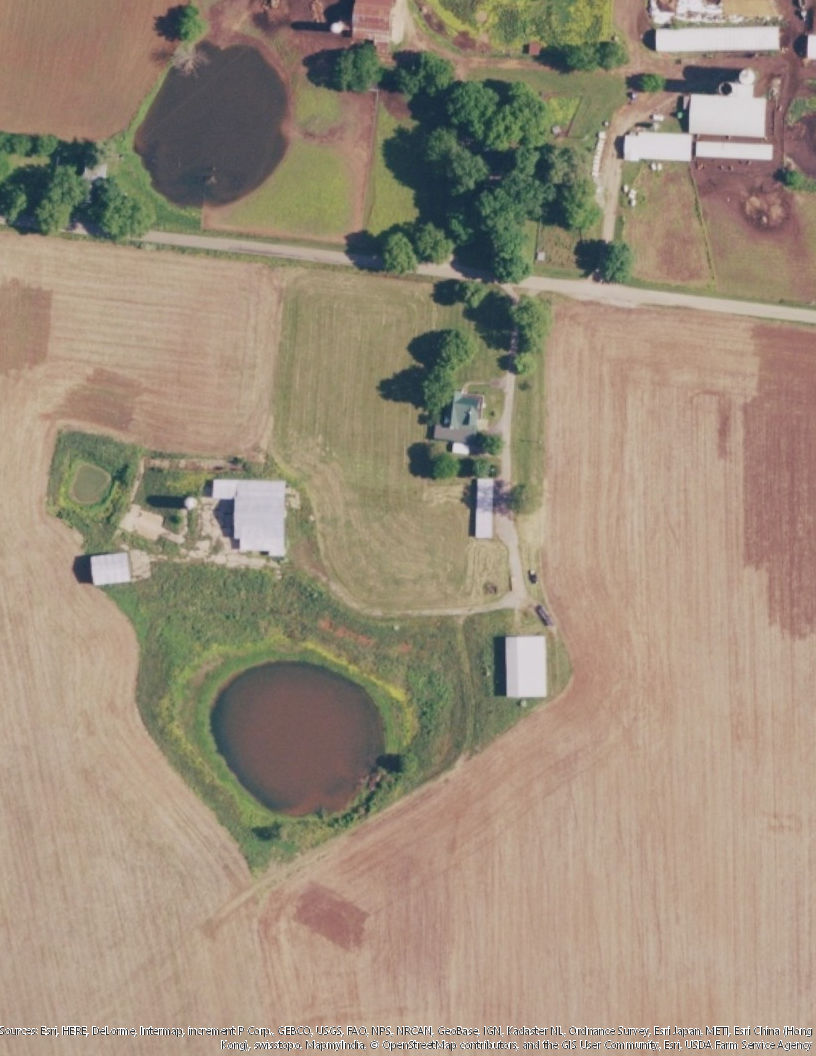cafo: (680, 75, 772, 144), (649, 16, 784, 56), (501, 625, 556, 703), (467, 472, 506, 546), (693, 138, 776, 166), (614, 134, 696, 160)
